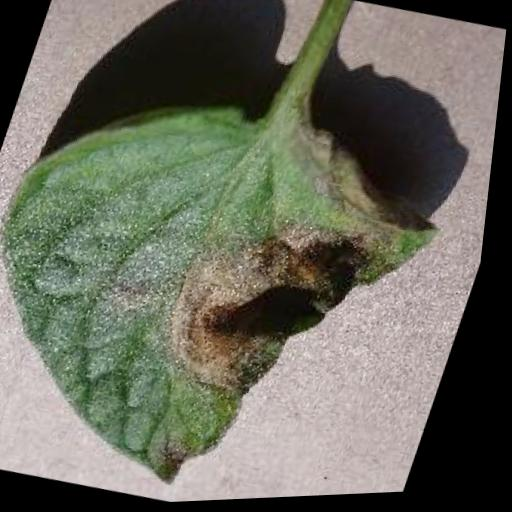Late Blight: (0, 56, 477, 512)
